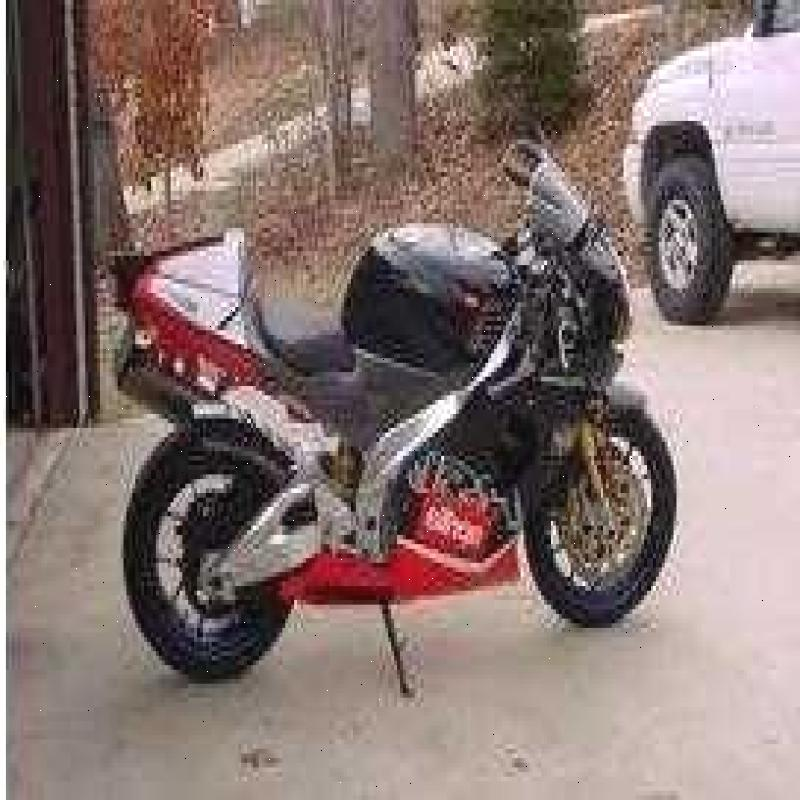bike: (91, 117, 699, 658)
